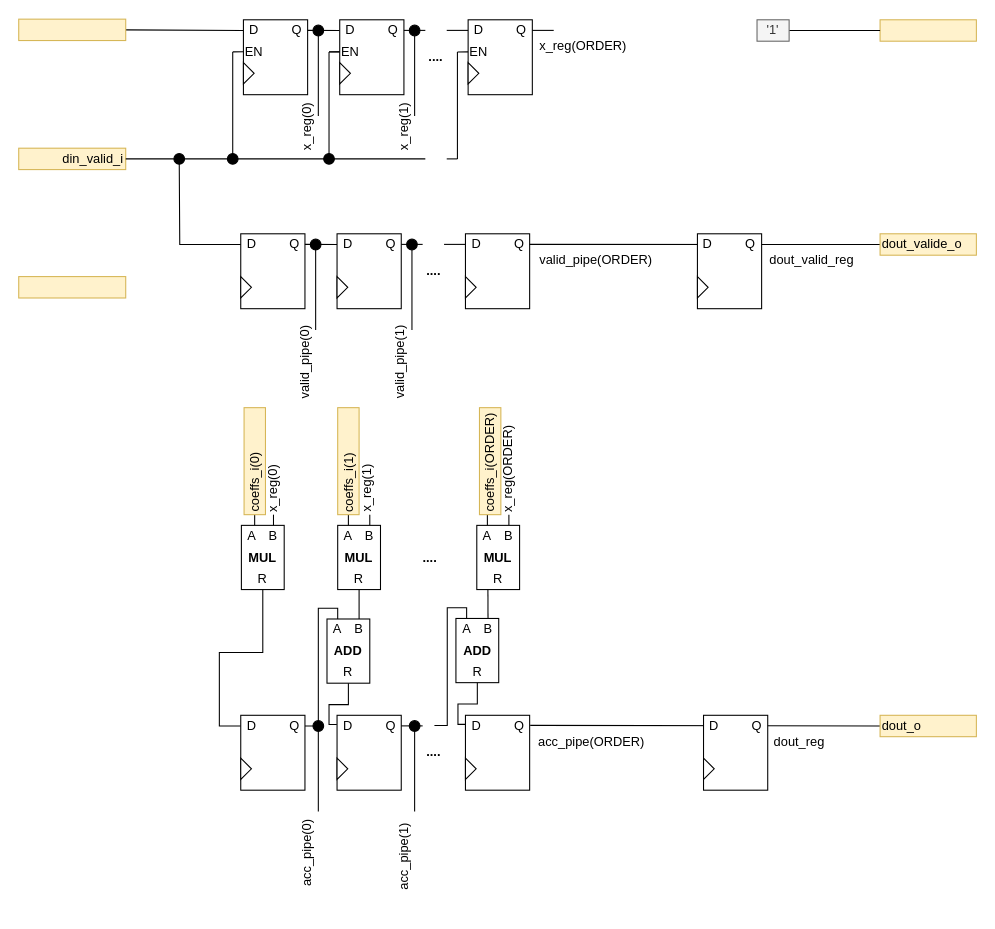
Some shapes in this 995 by 929 pixel diagram are drawn without their labels. The shapes that lost their labels are listed below. From the top down, each one's centre as x and y in pixels, then its label:
the point at 72,29: din_i
the point at 927,30: din_ready_o
the point at 72,287: dout_ready_i
